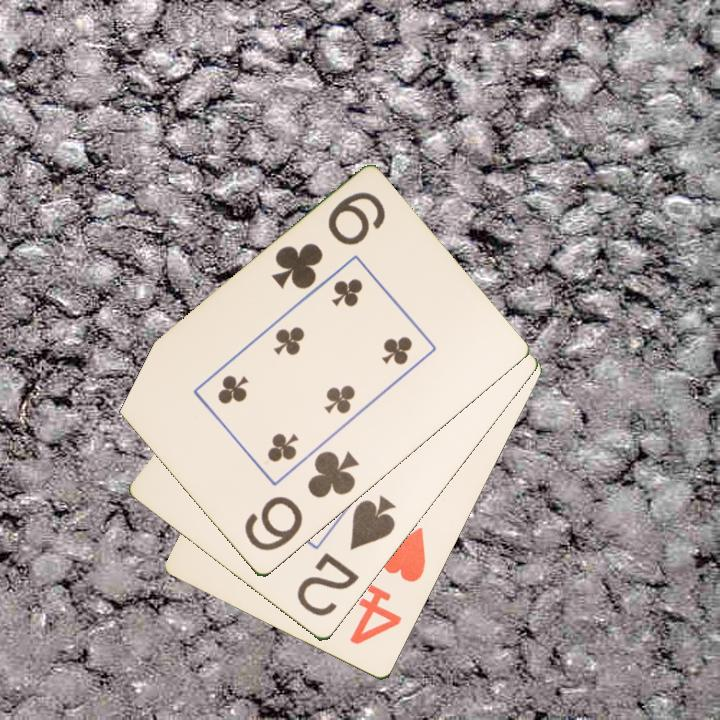2s: (293, 491, 399, 621)
4h: (346, 524, 429, 649)
6c: (240, 447, 362, 555), (268, 188, 389, 293)
